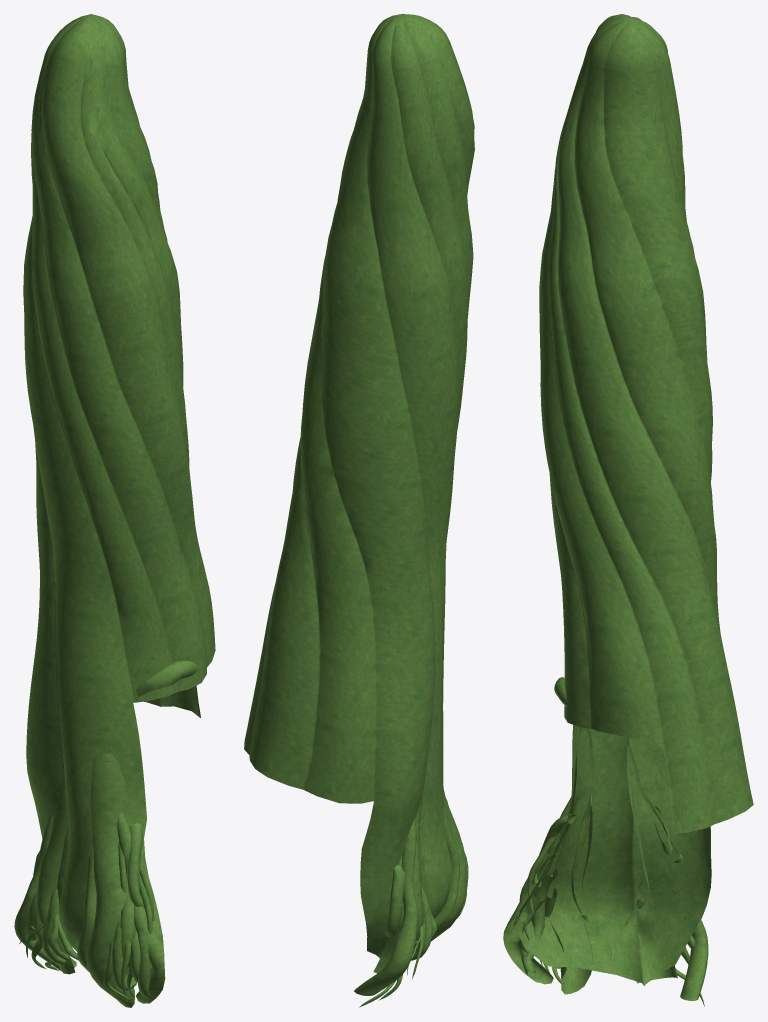
File: SM_ENV_KNFRST_LargeTree_C.FBX
The picture shows the model from 3 angles, left to right: view 1: azimuth 30°, elevation 25°; view 2: azimuth 150°, elevation 25°; view 3: azimuth 270°, elevation 25°; orthographic projection.
Parts seen in each view (by area): view 1: SM_ENV_KNFRST_LargeTree_C; view 2: SM_ENV_KNFRST_LargeTree_C; view 3: SM_ENV_KNFRST_LargeTree_C.
Part boxes in pixels (x1,y1,x2,y2): SM_ENV_KNFRST_LargeTree_C: (14,14,215,1007); SM_ENV_KNFRST_LargeTree_C: (244,14,474,1007); SM_ENV_KNFRST_LargeTree_C: (503,14,753,1006).
Size of the model in its own units: 2053 by 10231 by 2353.
